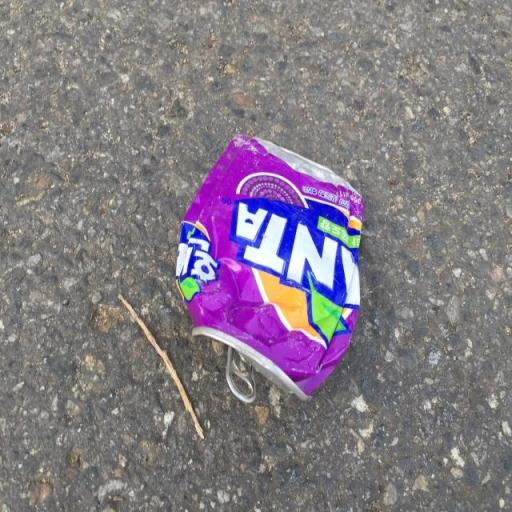metal: (164, 114, 378, 432)
